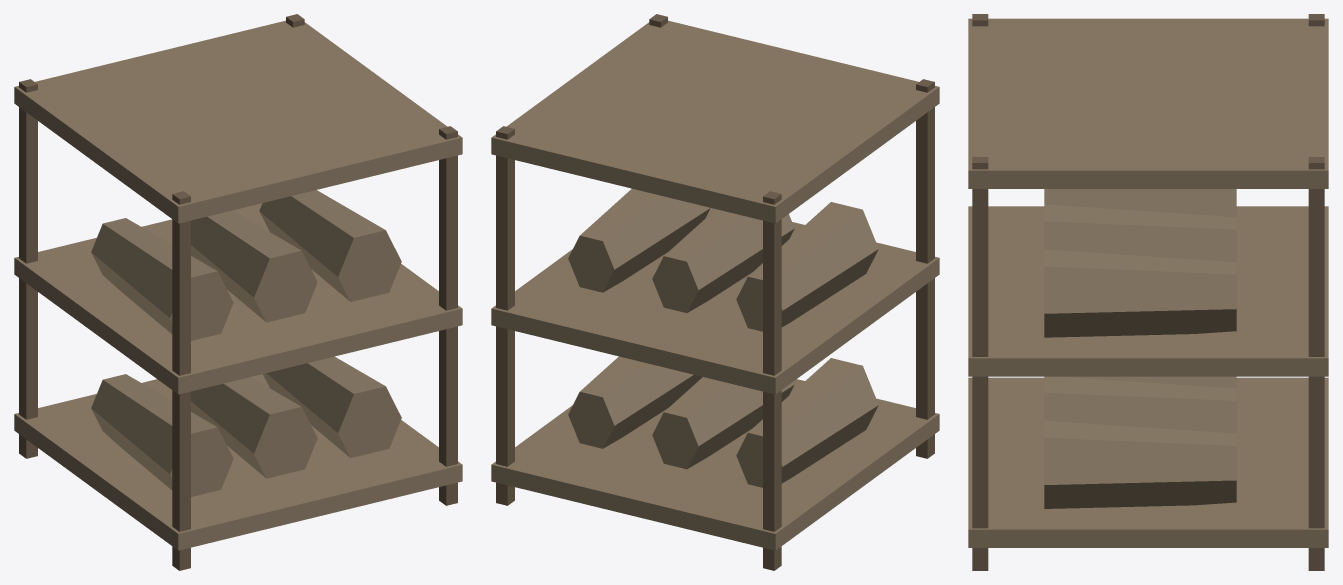
Rendered from bread_rack.glb.
3 renders of one model, left to right at view 1: azimuth 30°, elevation 25°; view 2: azimuth 150°, elevation 25°; view 3: azimuth 270°, elevation 25°, orthographic. The views are drawn at different scales.
Parts seen in each view (by area): view 1: bread_rack; view 2: bread_rack; view 3: bread_rack.
Boxes of the visible parts, x1,y1,x2,y2 form: bread_rack: (14, 14, 462, 570); bread_rack: (491, 14, 939, 570); bread_rack: (968, 14, 1328, 570).
Bounding box in the file's own units: 0.96 × 1.2 × 0.96.
